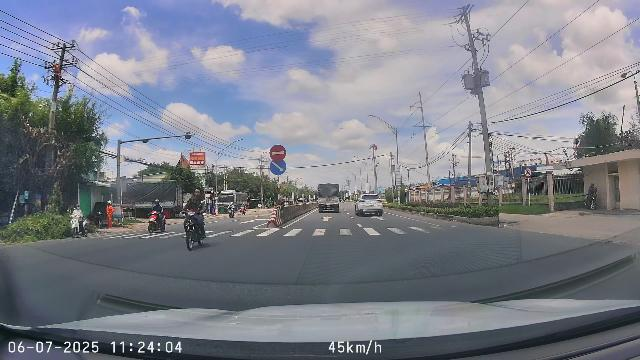102-cam-di-nguoc-chieu: (269, 144, 286, 161)
103a-cam-oto: (524, 167, 532, 178)
302a-huong-phai-di-vong-chuong-ngai-vat-1: (270, 160, 286, 176)
